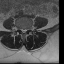CCS_normal: (23, 27, 24, 34)
LFS_normal: (26, 26, 28, 32)
LLS_normal: (24, 27, 26, 33)
RFS_stenosis: (19, 25, 21, 32)
RLS_stenosis: (21, 27, 23, 33)
